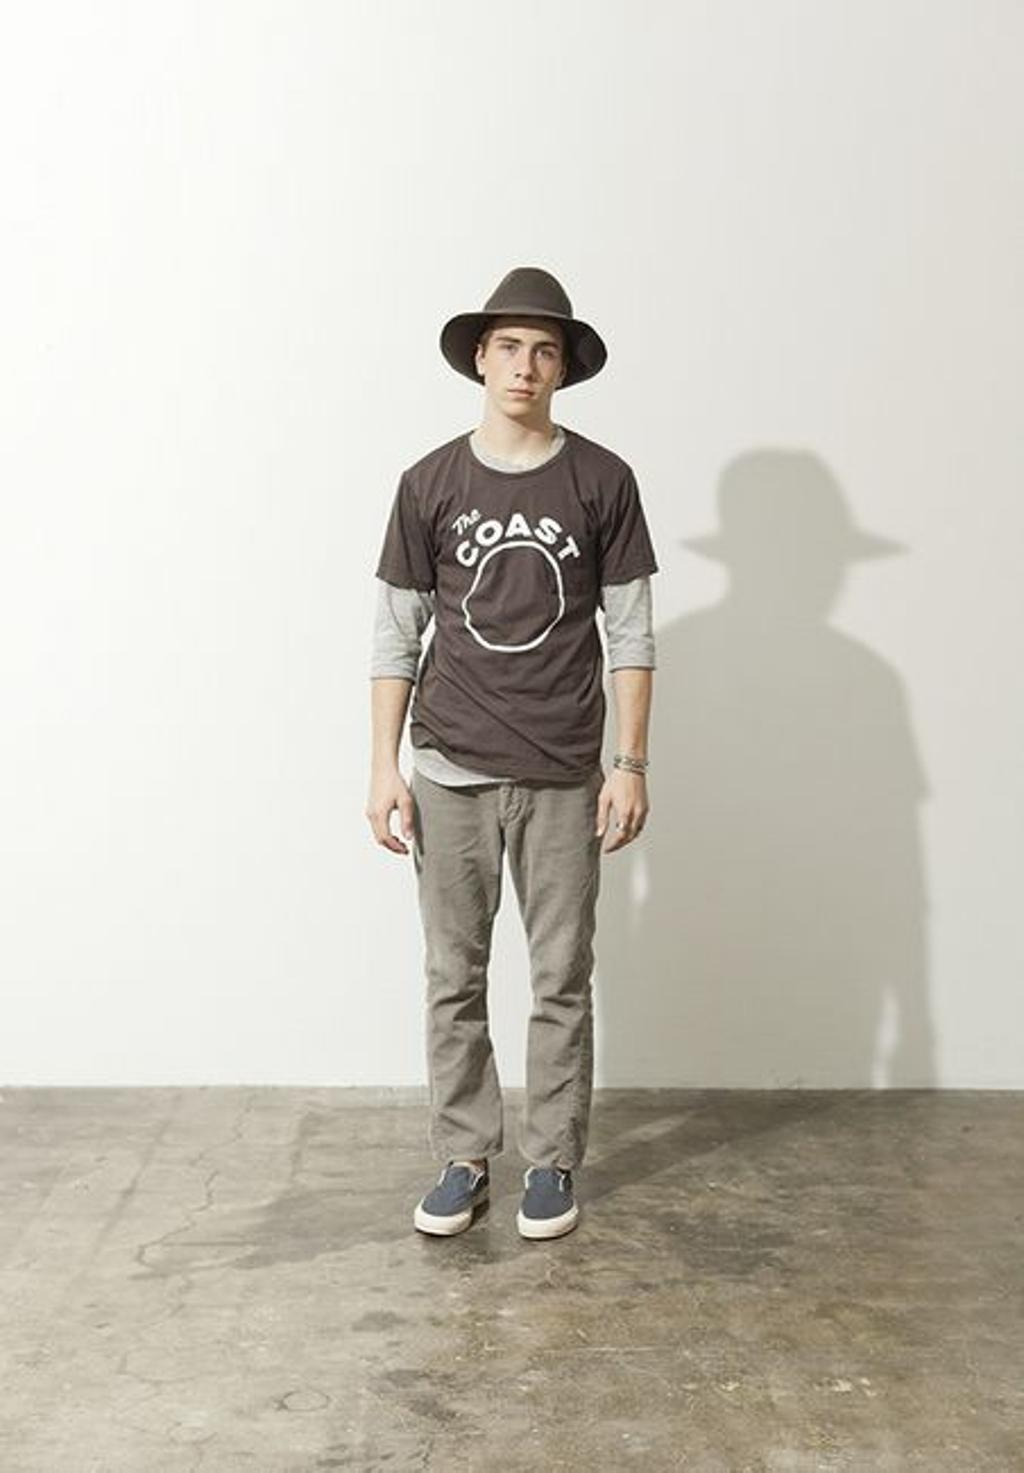face: (483, 305, 555, 414)
